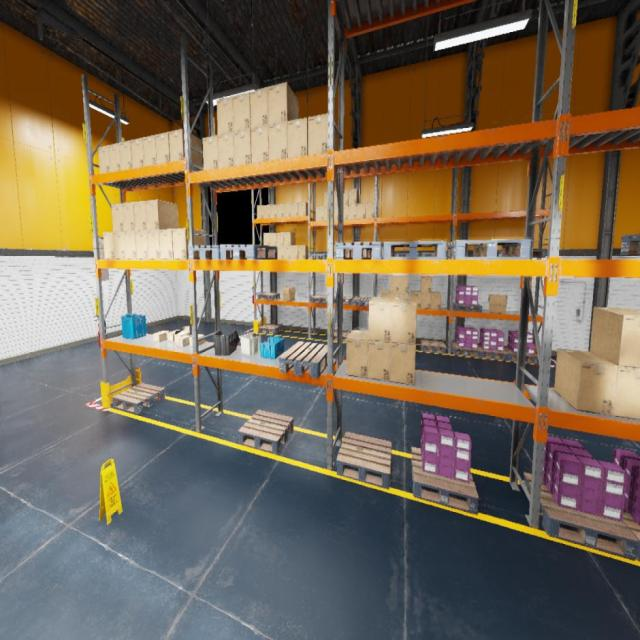box: (554, 349, 618, 415), (590, 352, 640, 419), (590, 307, 640, 368), (268, 82, 299, 125), (169, 128, 202, 168), (308, 113, 336, 155), (391, 298, 416, 344), (368, 296, 393, 342), (346, 329, 368, 378), (391, 342, 415, 386), (172, 228, 205, 259), (146, 200, 179, 230), (368, 341, 390, 382), (287, 118, 308, 158), (250, 87, 268, 128), (250, 125, 269, 163), (269, 121, 287, 160), (216, 96, 234, 135), (233, 92, 250, 132), (234, 130, 251, 166), (218, 132, 234, 168), (203, 135, 218, 170), (155, 132, 170, 164), (159, 228, 174, 258), (143, 135, 157, 166), (119, 140, 132, 170), (134, 201, 147, 231), (108, 143, 121, 172), (147, 230, 160, 259), (122, 202, 135, 231), (135, 231, 148, 259), (488, 294, 507, 313), (132, 138, 144, 168), (98, 145, 110, 173), (124, 232, 136, 260), (114, 232, 125, 260), (104, 232, 115, 260), (112, 204, 123, 232), (174, 326, 190, 343), (281, 287, 296, 301), (176, 334, 192, 346), (420, 292, 431, 309), (421, 276, 432, 293), (431, 292, 441, 310), (411, 291, 421, 308), (153, 331, 169, 341), (389, 275, 399, 291), (348, 188, 358, 204), (190, 334, 204, 345), (298, 201, 308, 216), (399, 275, 408, 291), (284, 233, 295, 246), (167, 330, 181, 340), (316, 206, 324, 222), (366, 203, 374, 218), (348, 204, 356, 219), (299, 246, 308, 259), (357, 204, 365, 218), (276, 233, 284, 246), (256, 205, 264, 218), (284, 203, 291, 217), (277, 204, 284, 218), (270, 204, 277, 218), (291, 246, 298, 259), (284, 247, 291, 260), (277, 247, 284, 260), (270, 233, 277, 246), (291, 203, 298, 216), (264, 205, 270, 218), (343, 204, 348, 219), (323, 191, 328, 206), (323, 206, 328, 221), (264, 233, 270, 245), (380, 290, 390, 297), (334, 190, 338, 206), (344, 190, 348, 204), (334, 206, 338, 220), (399, 292, 408, 298), (390, 291, 399, 297), (268, 252, 269, 258)
pallets: (524, 472, 638, 560), (412, 448, 479, 516), (336, 432, 392, 489), (238, 410, 293, 454), (279, 342, 327, 378), (447, 239, 531, 259), (112, 383, 165, 414), (383, 241, 448, 260), (622, 508, 640, 562), (220, 244, 277, 260), (188, 245, 244, 260), (335, 242, 383, 259), (504, 347, 538, 364), (478, 345, 508, 360), (451, 342, 479, 358), (620, 233, 640, 254), (421, 340, 446, 354), (453, 302, 483, 312), (260, 324, 282, 334), (257, 292, 280, 300), (352, 297, 372, 306), (334, 331, 350, 342), (334, 296, 353, 305), (421, 252, 446, 258), (311, 296, 327, 304), (532, 250, 547, 257), (396, 253, 419, 257), (310, 254, 325, 259), (326, 254, 335, 259), (496, 250, 502, 257), (395, 253, 395, 257)
